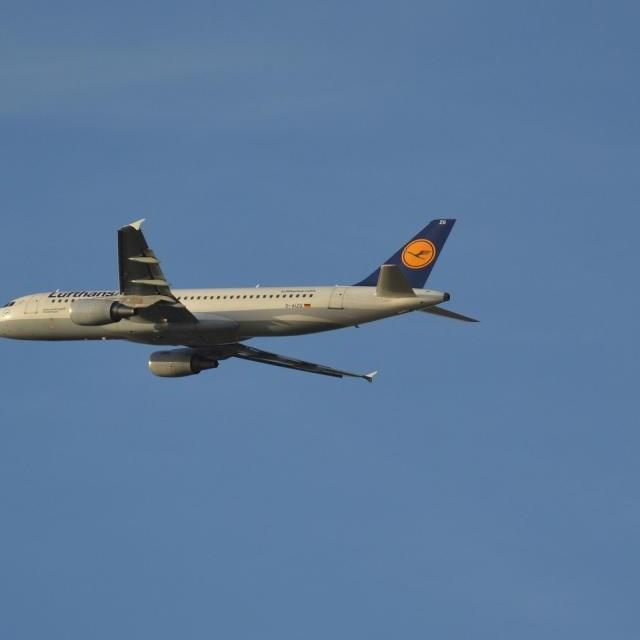airplane: (0, 212, 483, 388)
